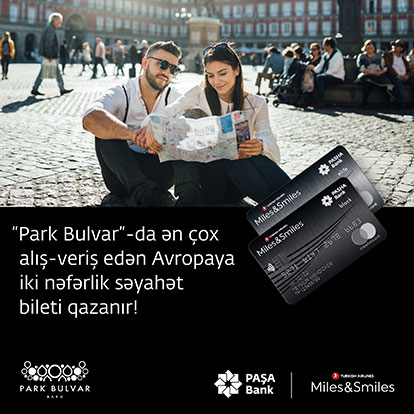Pasha Bank: (213, 369, 242, 397), (321, 194, 334, 207), (317, 162, 330, 175)
